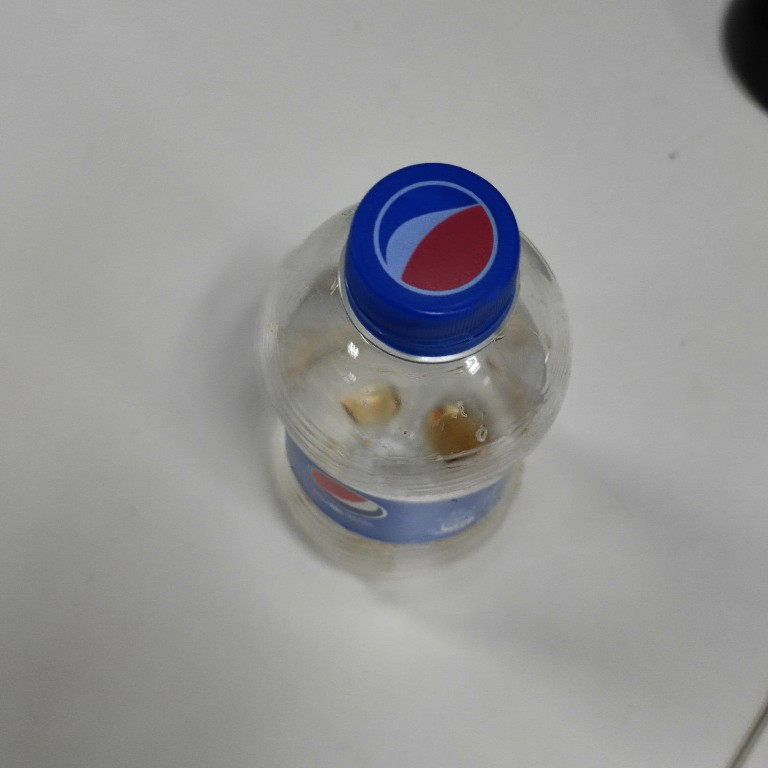bottle: (260, 157, 577, 576)
